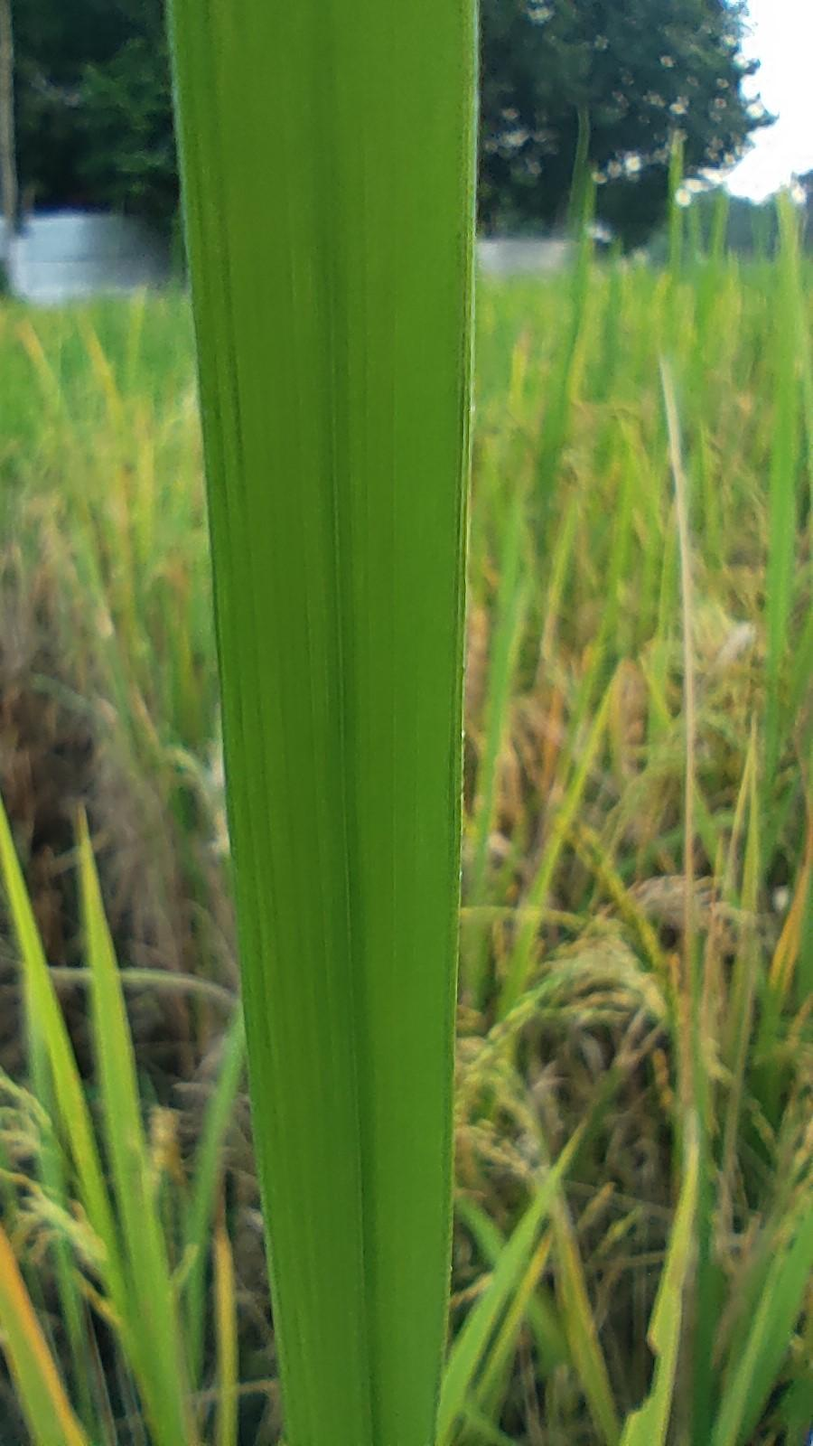Healthy: (176, 0, 479, 1445)
